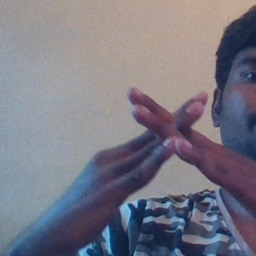W: (107, 69, 239, 212)
